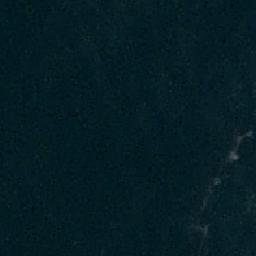debris: (194, 173, 222, 245), (227, 130, 254, 161)
